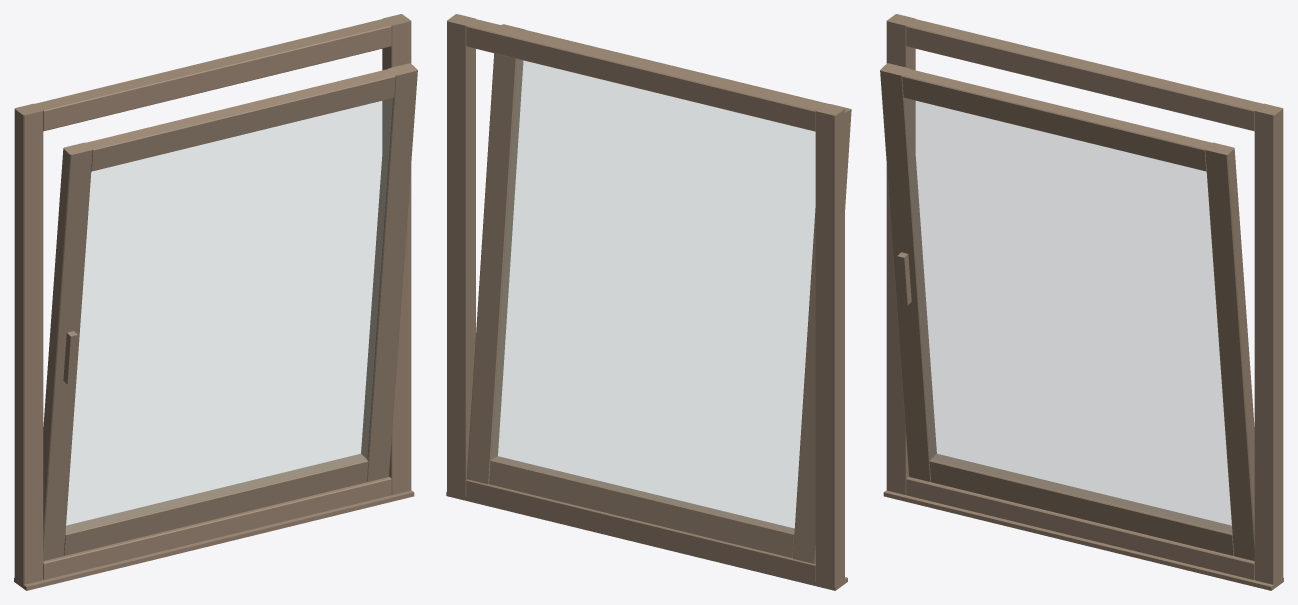
The model's file is bt-S53RP-1-oscillo-quartz-1019.glb.
3 renders of one model, left to right at view 1: azimuth 30°, elevation 25°; view 2: azimuth 150°, elevation 25°; view 3: azimuth 330°, elevation 25°, orthographic.
Parts seen in each view (by area): view 1: verre, structure; view 2: verre, structure; view 3: verre, structure.
Part boxes in pixels (x1,y1,x2,y2): verre: (66, 98, 392, 532); structure: (14, 14, 417, 590); verre: (492, 59, 815, 532); structure: (446, 14, 851, 590); verre: (905, 98, 1231, 532); structure: (880, 14, 1283, 590).
Bounding box in the file's own units: 1.2 × 1.4 × 0.1976.
